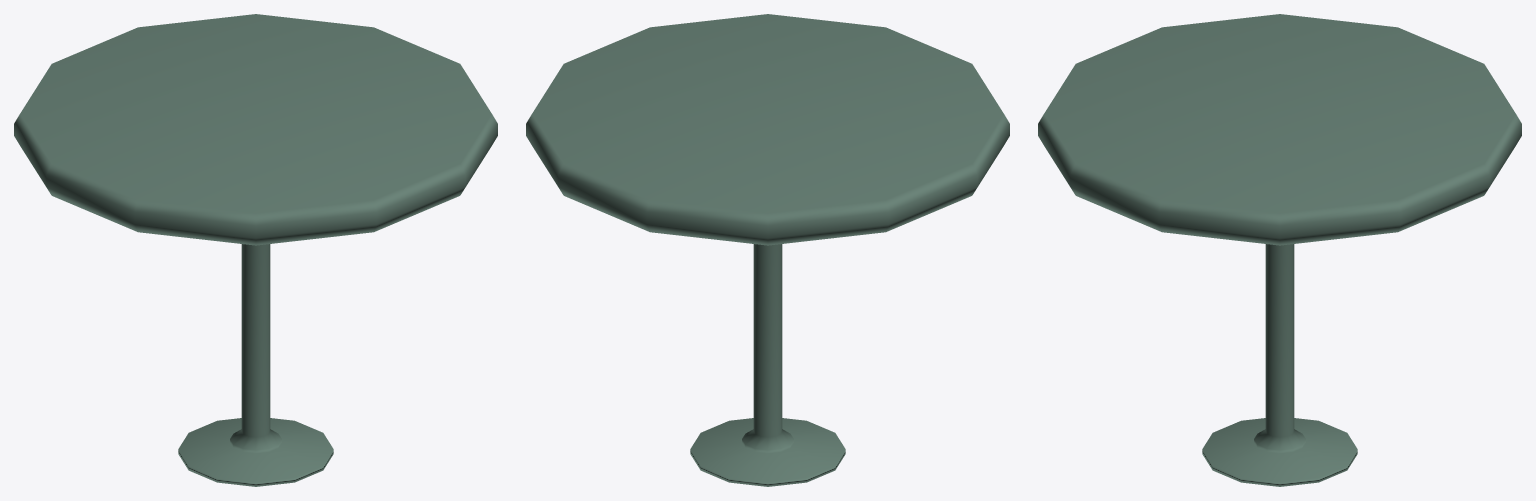
Rendered from table.fbx.
3 views of the same model, side by side, from view 1: azimuth 30°, elevation 25°; view 2: azimuth 150°, elevation 25°; view 3: azimuth 270°, elevation 25° (orthographic).
Parts seen in each view (by area): view 1: pCylinder13; view 2: pCylinder13; view 3: pCylinder13.
Boxes of the visible parts, box(x1,y1,x2,y2) form: pCylinder13: box(14, 14, 497, 486); pCylinder13: box(526, 14, 1009, 486); pCylinder13: box(1038, 14, 1521, 486).
Size of the model in its own units: 0.7837 by 0.6085 by 0.7837.
